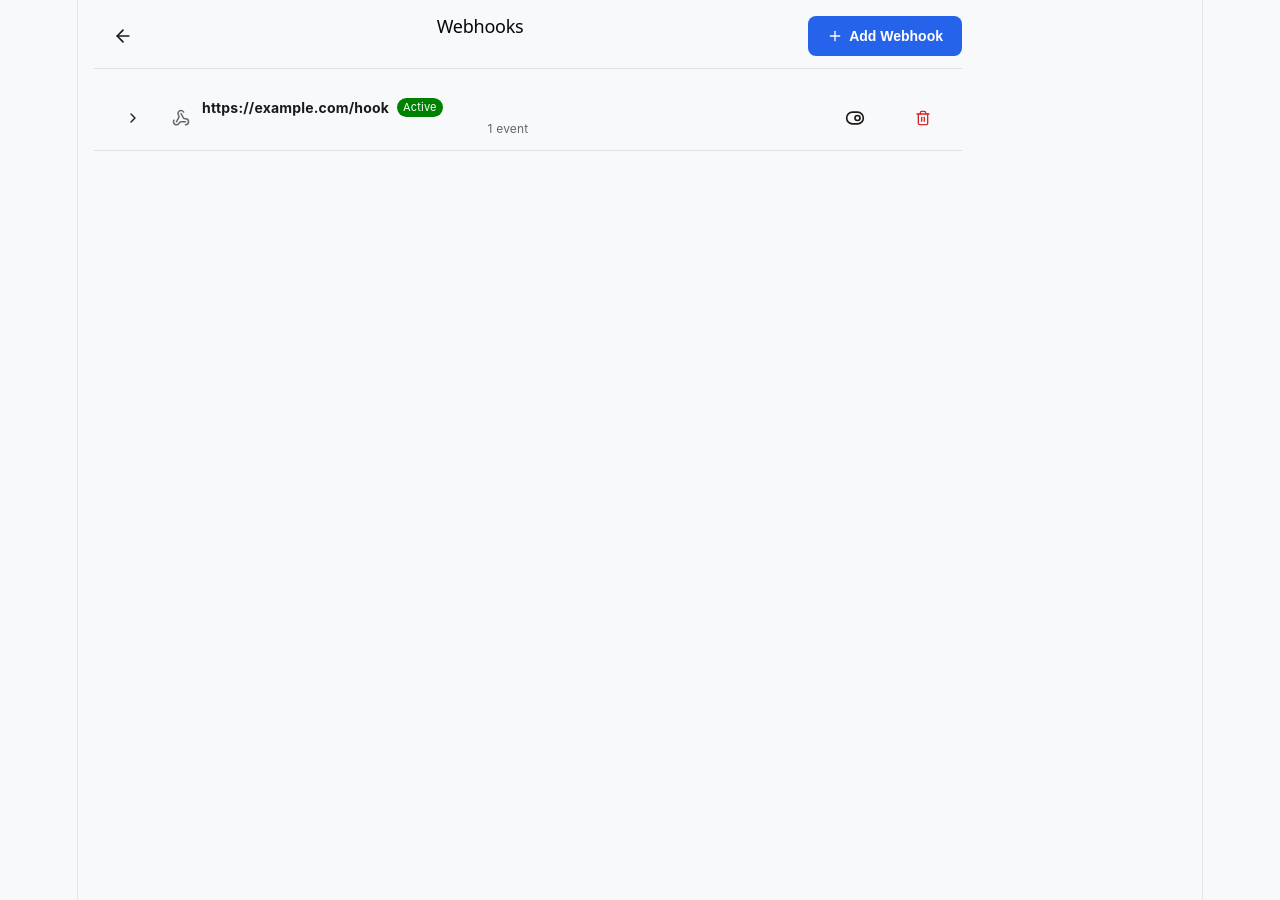
Scenario: WebhookManager › shows delivery log when webhook is expanded
expect the text "https://example.com/hook" is shown: met, box [202,97,389,118]
Note: NOTE: Click the expand button (first toggle deliveries button)
Click the button titled "Toggle deliveries": click(133, 118) [106,100,160,136]
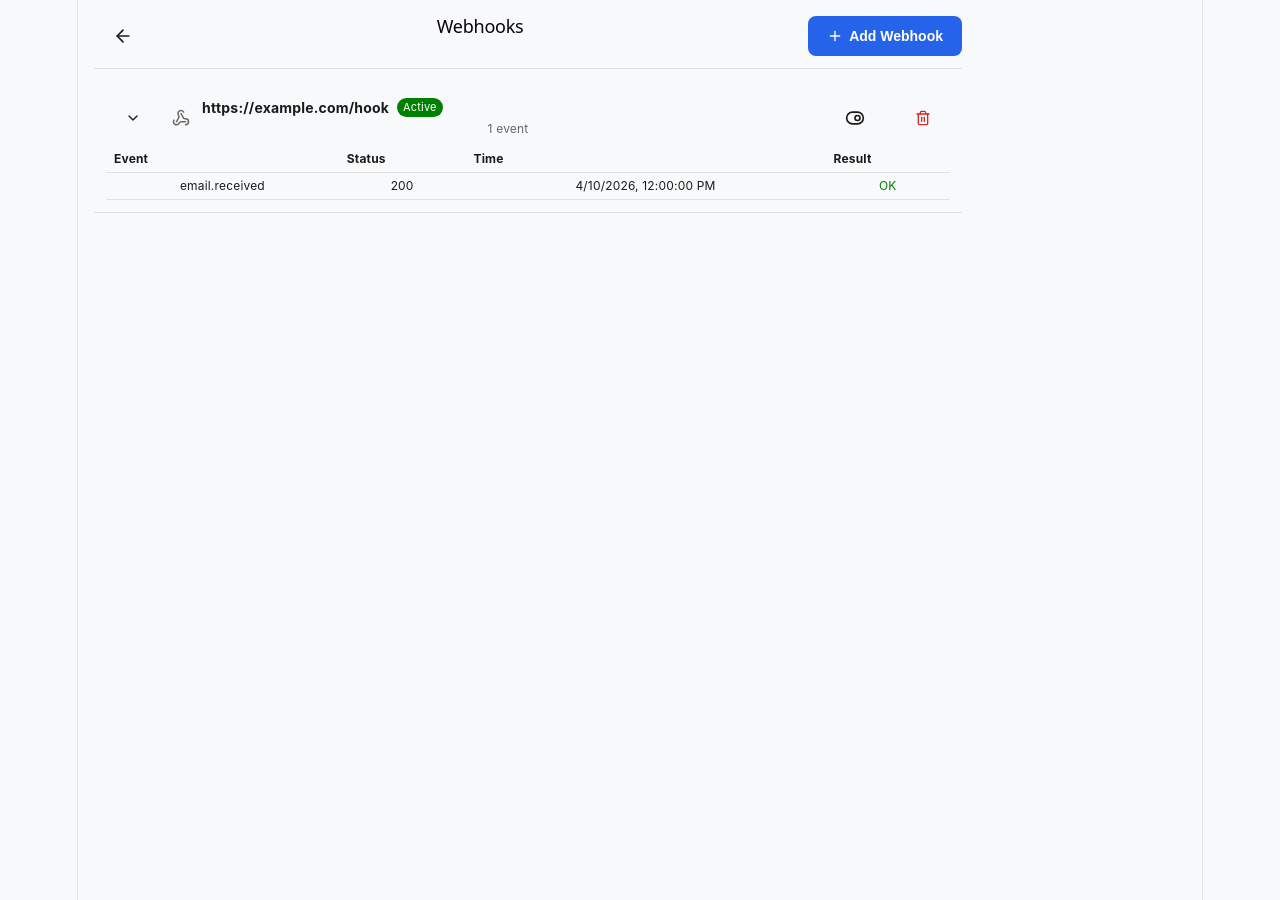
expect the element with test id "delivery-log" is shown: met, box [106,146,950,200]
